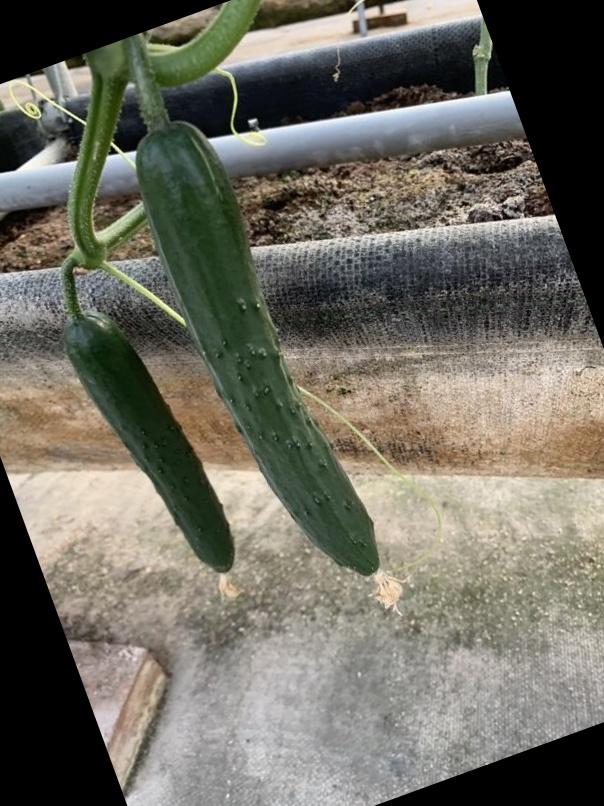mature: (137, 124, 384, 589), (57, 317, 235, 576)
